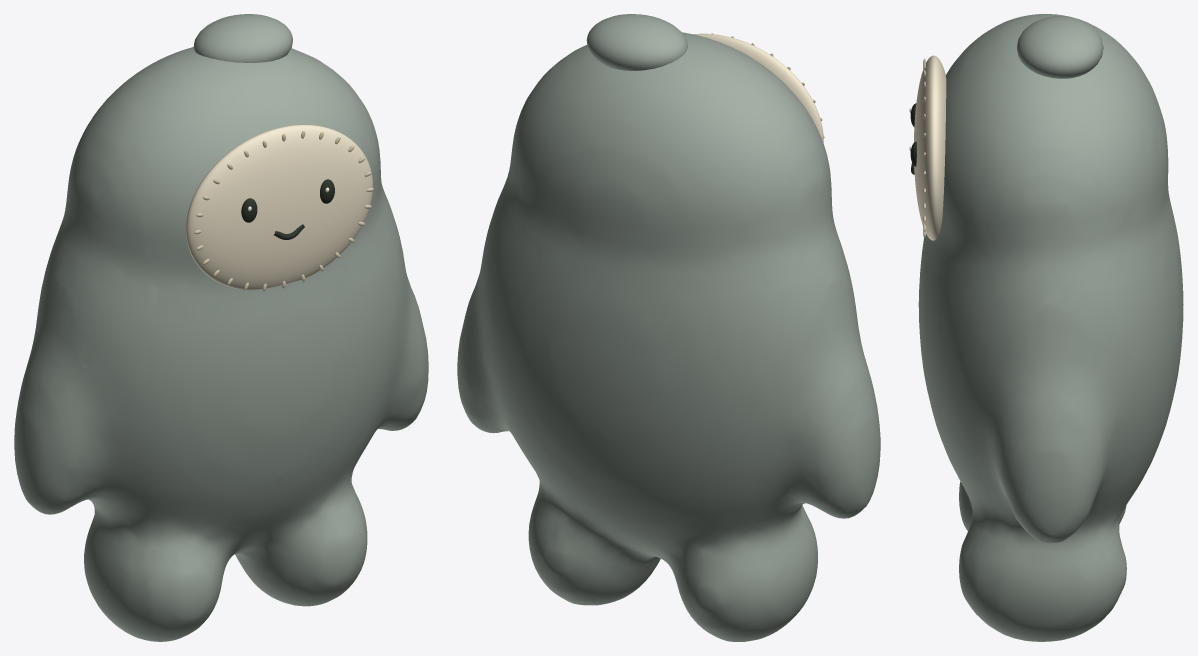
Rendered from pebble-soft-v2.glb.
The picture shows the model from 3 angles, left to right: view 1: azimuth 30°, elevation 25°; view 2: azimuth 150°, elevation 25°; view 3: azimuth 270°, elevation 25°; orthographic projection. The views are drawn at different scales.
Parts seen in each view (by area): view 1: Pebble continuous body, Linen face panel, Little crown pebble; view 2: Pebble continuous body, Little crown pebble, Linen face panel; view 3: Pebble continuous body, Linen face panel, Little crown pebble.
Boxes of the visible parts, left/top/right/bottom form: Pebble continuous body: left=14, top=47, right=428, bottom=641; Linen face panel: left=186, top=124, right=372, bottom=289; Little crown pebble: left=193, top=14, right=292, bottom=62; Pebble continuous body: left=457, top=32, right=880, bottom=641; Little crown pebble: left=586, top=14, right=687, bottom=70; Linen face panel: left=693, top=33, right=823, bottom=142; Pebble continuous body: left=918, top=14, right=1183, bottom=641; Linen face panel: left=914, top=55, right=946, bottom=240; Little crown pebble: left=1016, top=16, right=1103, bottom=78.
Size of the model in its own units: 1.28 by 1.79 by 0.7563.
